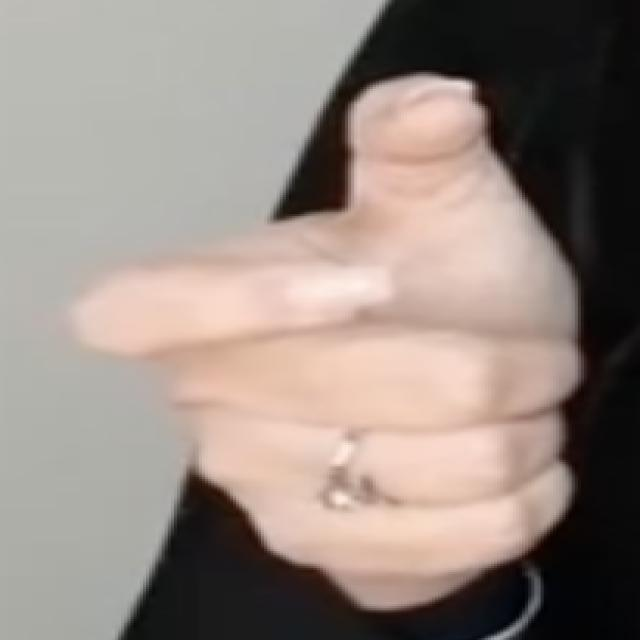Q: (56, 59, 602, 600)
